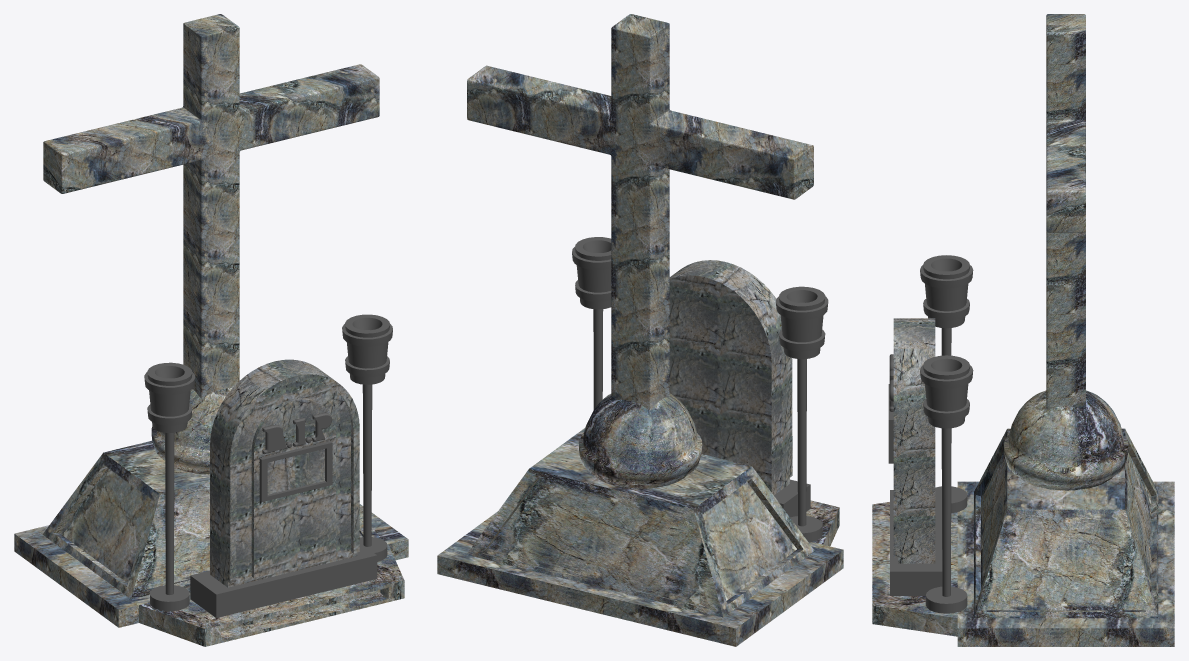
File: FbxTomb.fbx
3 renders of one model, left to right at view 1: azimuth 30°, elevation 25°; view 2: azimuth 150°, elevation 25°; view 3: azimuth 270°, elevation 25°, orthographic. The views are drawn at different scales.
Visible parts, largest first — view 1: cruz:pCube1, pCylinder1, cruz:pCube2, candalabro:candelabro, candalabro:can, cruz:pSphere3, polySurface1; view 2: cruz:pCube2, cruz:pCube1, pCylinder1, cruz:pSphere3, candalabro:candelabro, candalabro:can; view 3: cruz:pCube2, cruz:pCube1, pCylinder1, cruz:pSphere3, candalabro:can, candalabro:candelabro.
Part boxes in pixels (box(x1,y1,x2,y2)): cruz:pCube1: box(43, 14, 379, 398); pCylinder1: box(190, 359, 377, 617); cruz:pCube2: box(14, 440, 408, 646); candalabro:candelabro: box(144, 362, 195, 611); candalabro:can: box(342, 314, 392, 561); cruz:pSphere3: box(151, 388, 231, 474); polySurface1: box(262, 412, 331, 454); cruz:pCube2: box(437, 427, 843, 646); cruz:pCube1: box(467, 14, 813, 410); pCylinder1: box(669, 260, 810, 517); cruz:pSphere3: box(578, 393, 702, 488); candalabro:candelabro: box(776, 286, 828, 542); candalabro:can: box(572, 237, 611, 409); cruz:pCube2: box(872, 428, 1174, 646); cruz:pCube1: box(1046, 14, 1085, 409); pCylinder1: box(888, 318, 942, 595); cruz:pSphere3: box(1004, 390, 1128, 490); candalabro:can: box(920, 355, 973, 613); candalabro:candelabro: box(920, 255, 973, 512).
Bounding box in the file's own units: 7.75 × 12.3 × 6.13.
Materials: 3 (2 with a texture image).
